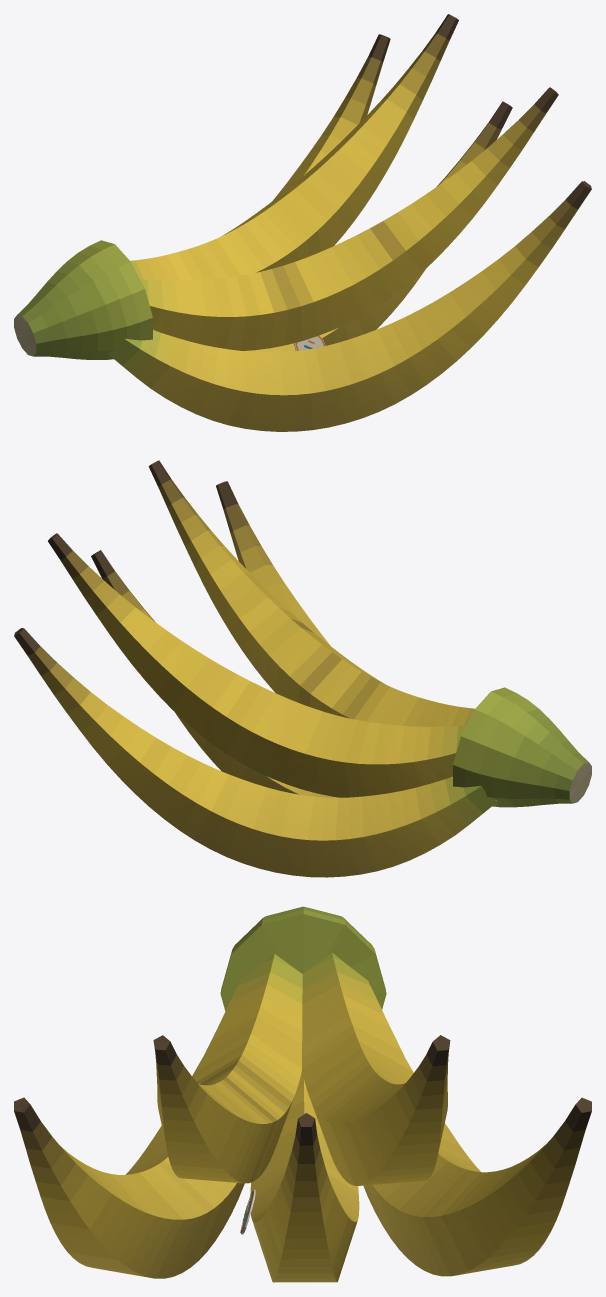
Rendered from gs-bananas.glb.
3 renders of one model, top to bottom at view 1: azimuth 30°, elevation 25°; view 2: azimuth 150°, elevation 25°; view 3: azimuth 270°, elevation 25°, orthographic. The views are drawn at different scales.
Parts seen in each view (by area): view 1: gs_bananas; view 2: gs_bananas; view 3: gs_bananas.
Boxes of the visible parts, bbox=[...] form: gs_bananas: bbox=[14, 14, 591, 431]; gs_bananas: bbox=[14, 460, 591, 877]; gs_bananas: bbox=[14, 906, 591, 1282].
Bounding box in the file's own units: 0.2225 × 0.1197 × 0.1635.
